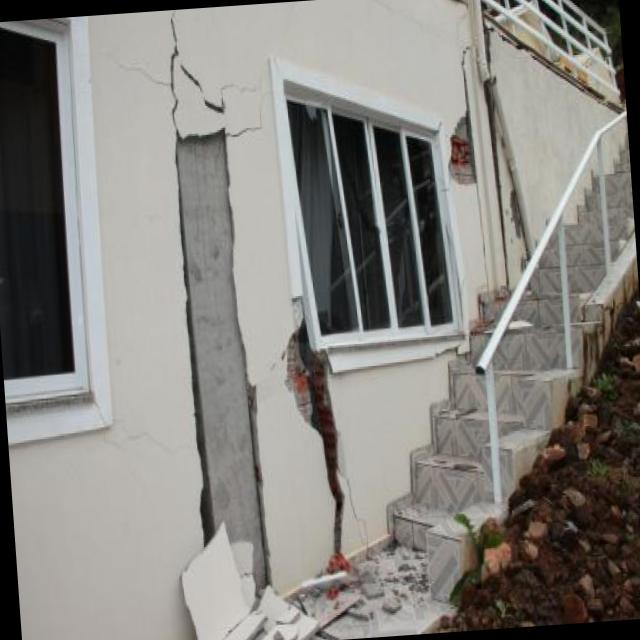crack: (163, 14, 265, 548), (221, 135, 275, 595), (283, 323, 347, 558), (483, 78, 509, 283), (448, 64, 476, 187), (510, 173, 531, 259), (485, 16, 493, 73)
